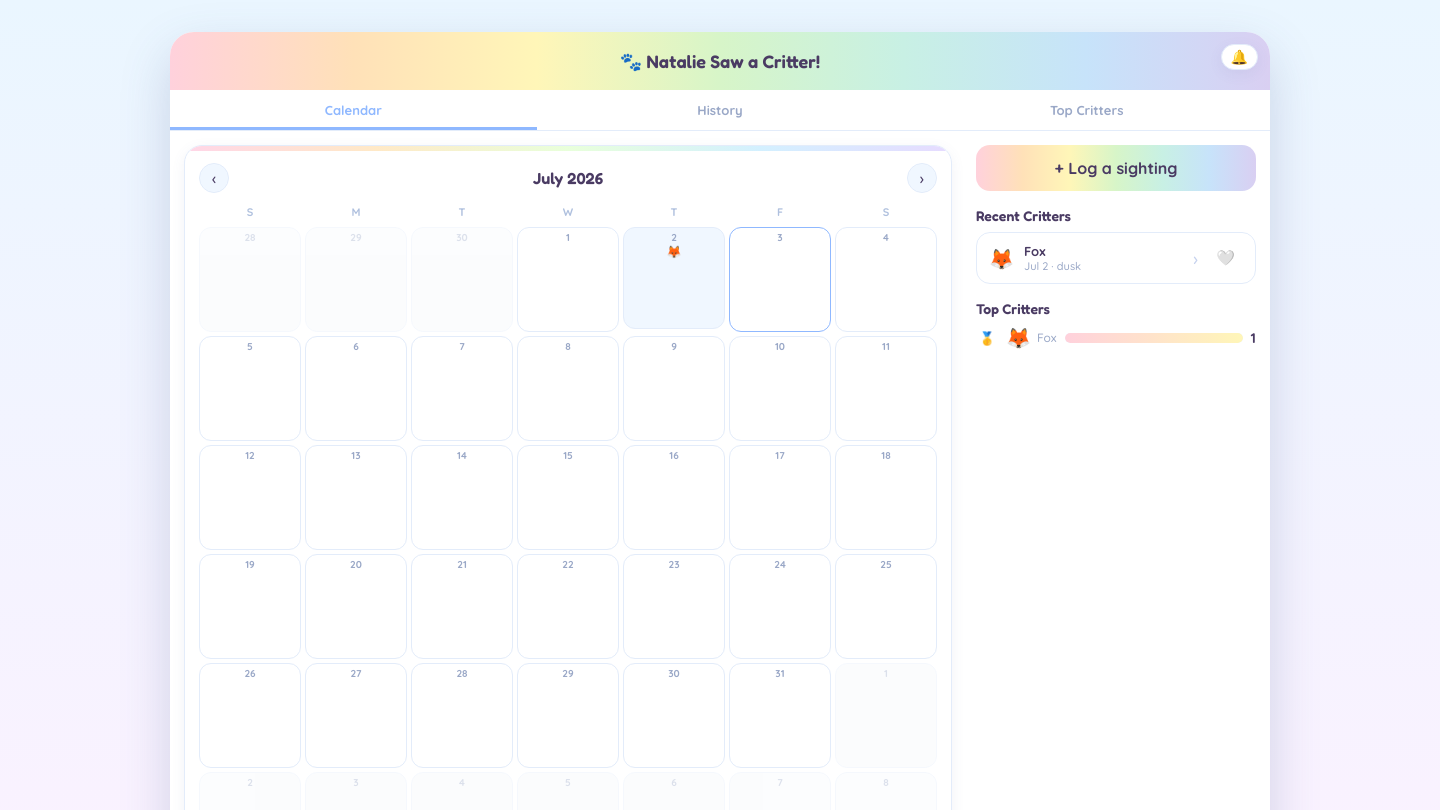
Test: calendar navigation and delete › calendar cell → day detail → sighting detail → back → day detail
Click the button named "jul 2,".
click(674, 278)  # box x1=623 y1=227 x2=725 y2=329
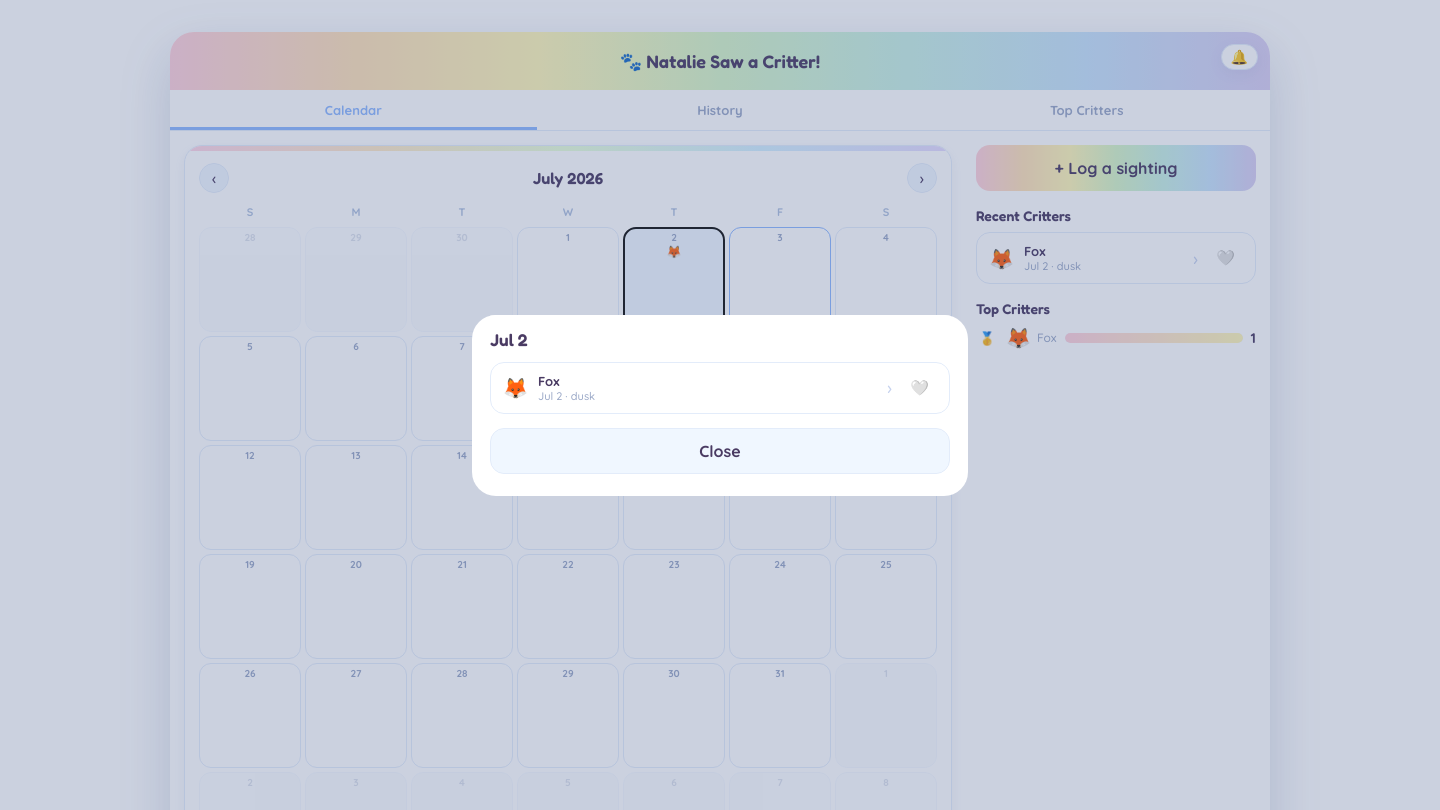
Expected: the dialog shows "Jul 2", x1=490 y1=328 x2=528 y2=350
Click the button "🦊 Fox Jul 2 · dusk ›".
click(567, 396)  # box x1=503 y1=372 x2=892 y2=402
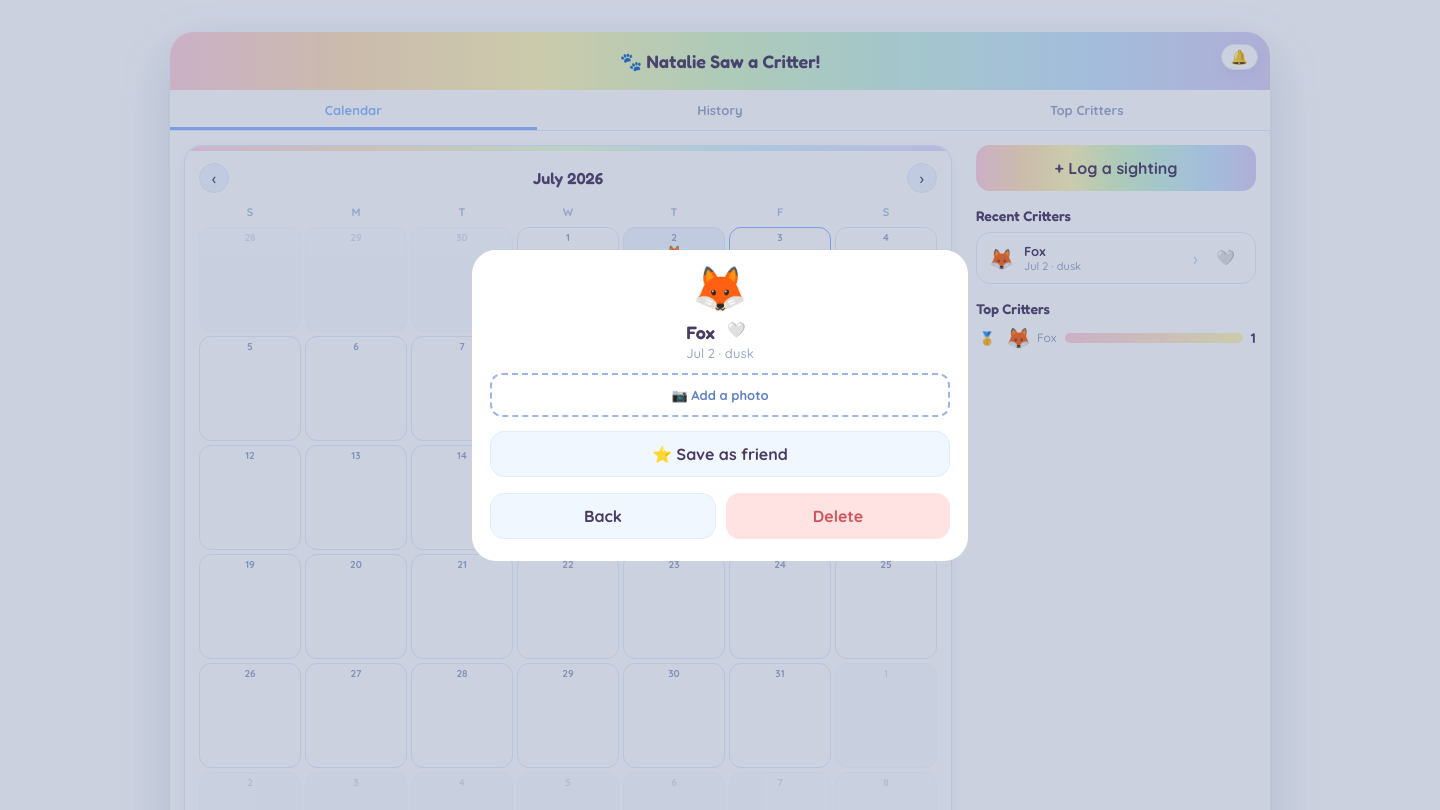
Expected: the dialog shows "Jul 2 · dusk", x1=686 y1=344 x2=754 y2=360
Click the button "Back".
click(603, 516)  # box x1=490 y1=492 x2=716 y2=538
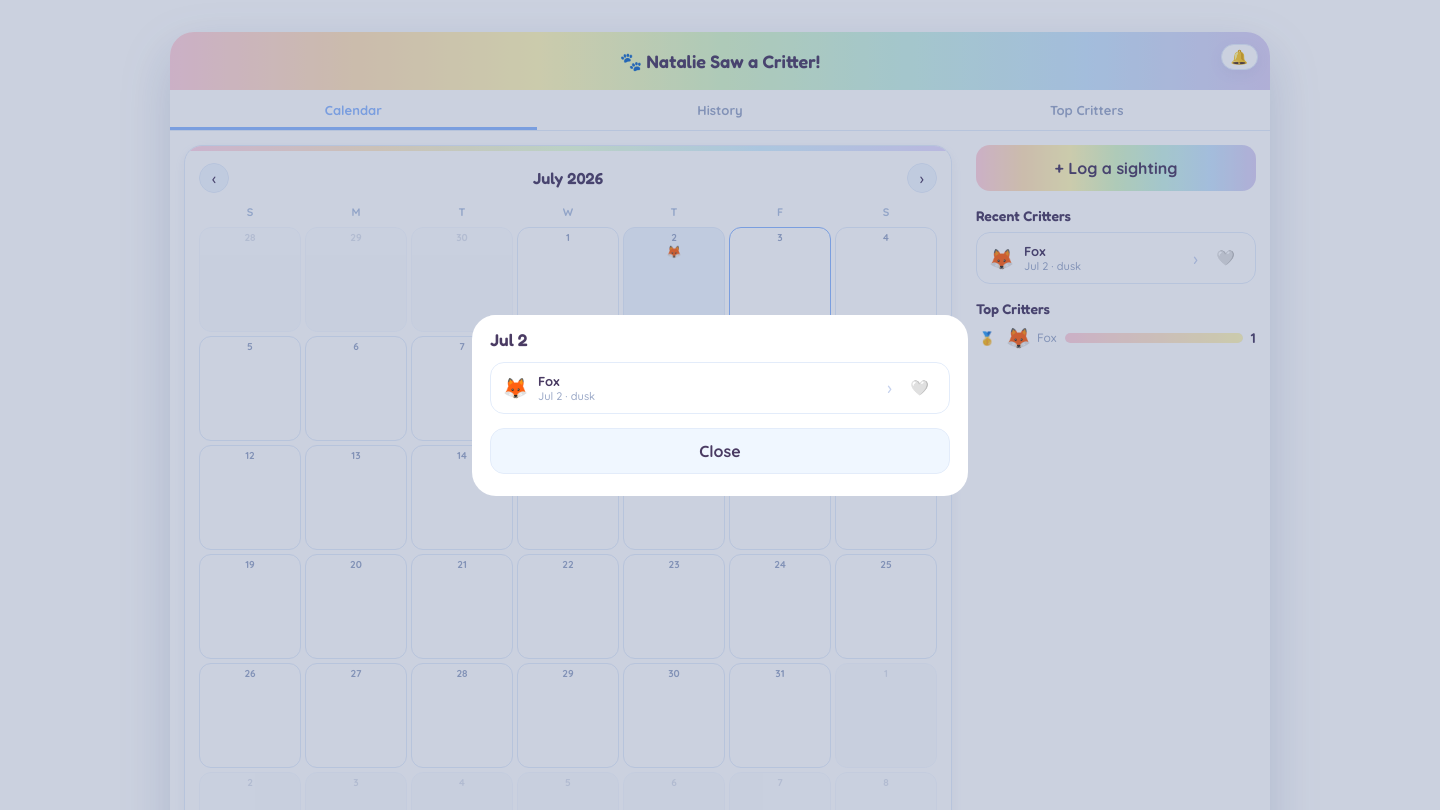
Expected: the dialog shows "Jul 2", x1=490 y1=328 x2=528 y2=350
Click the button "Close".
click(720, 450)  # box x1=490 y1=428 x2=950 y2=474
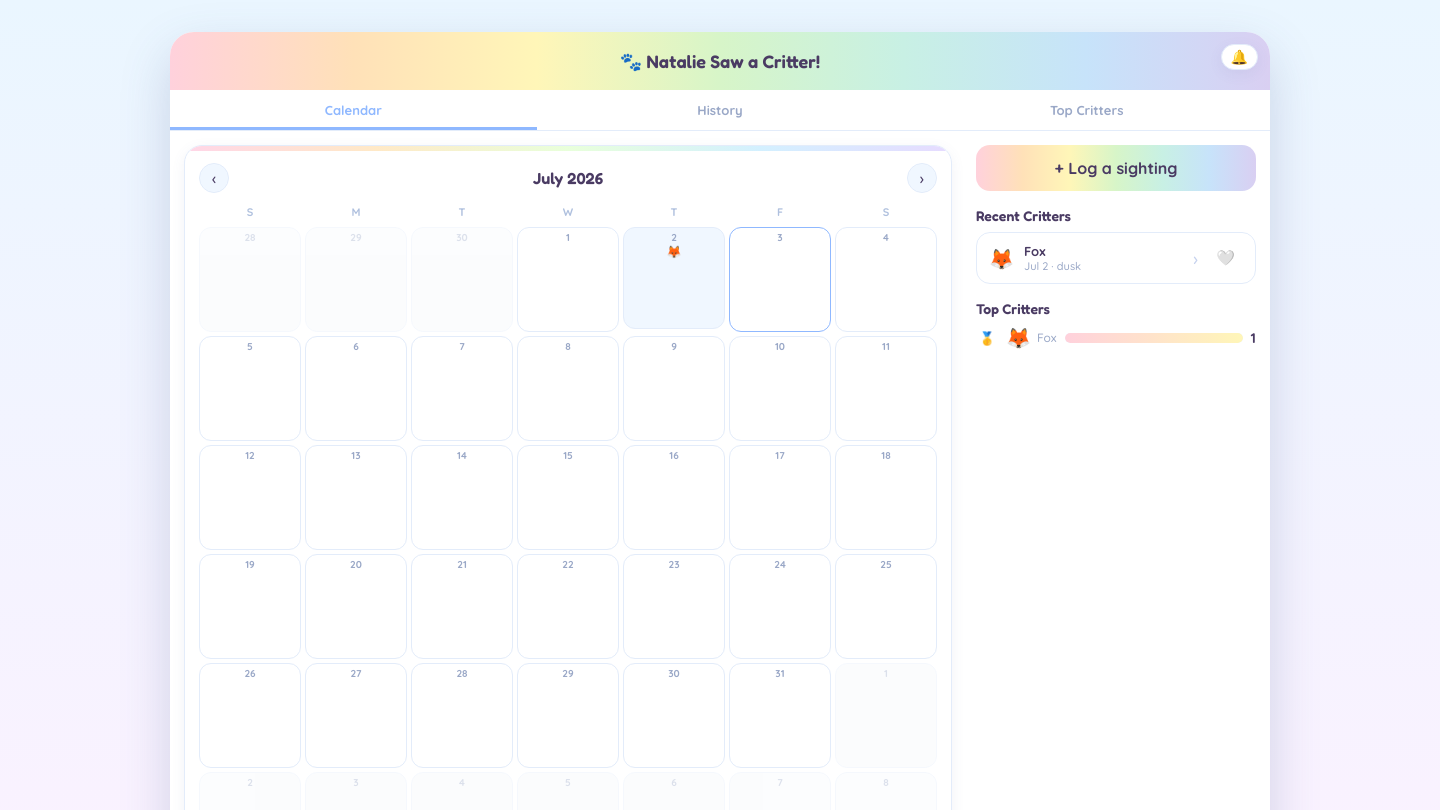
Expected: the dialog is gone
